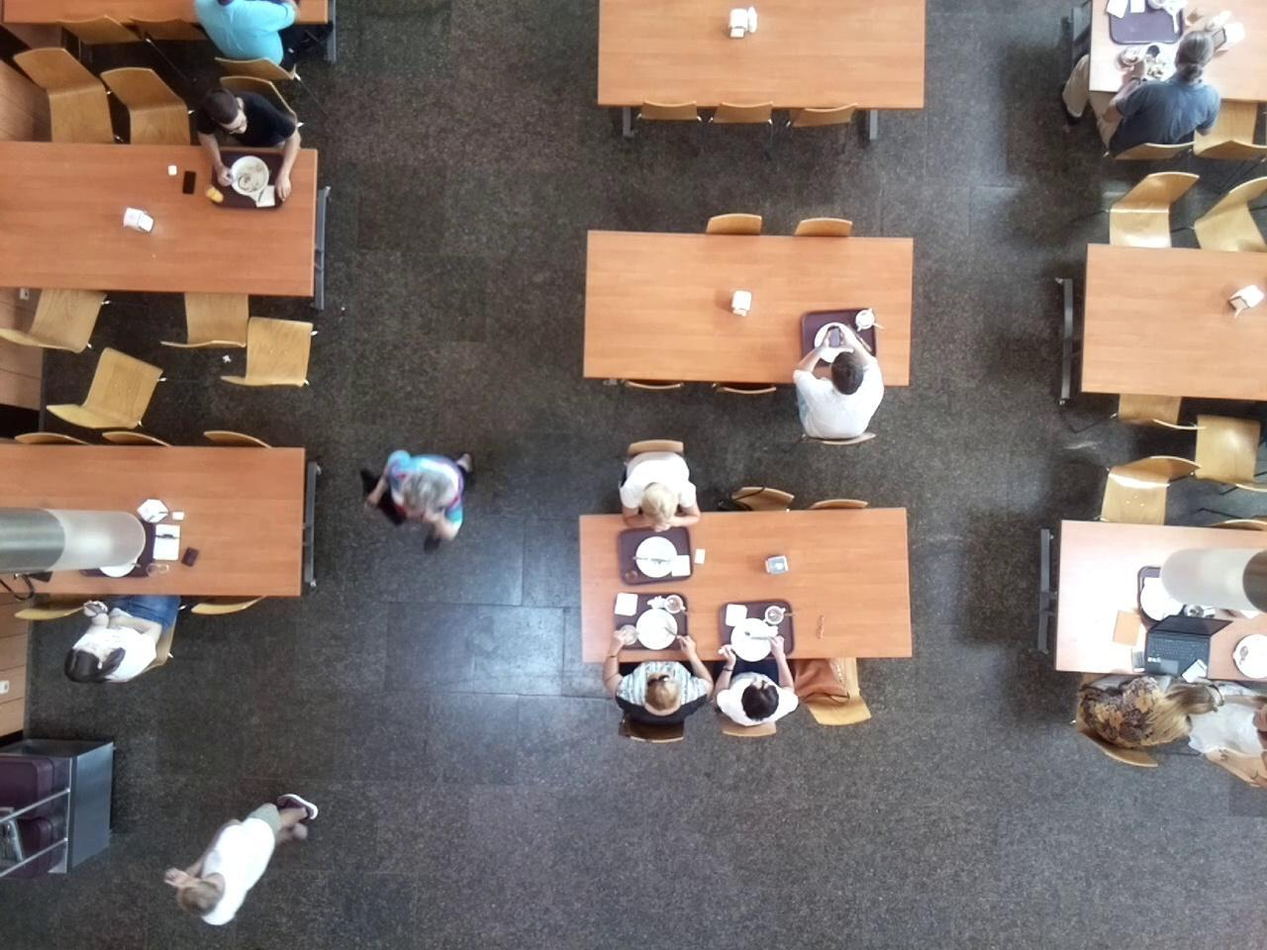person: (158, 774, 318, 928), (361, 433, 482, 557), (793, 297, 885, 448), (194, 108, 309, 224), (1083, 665, 1200, 777), (612, 635, 728, 741), (1116, 28, 1221, 142), (617, 443, 705, 547), (73, 598, 182, 678), (716, 644, 795, 731)
